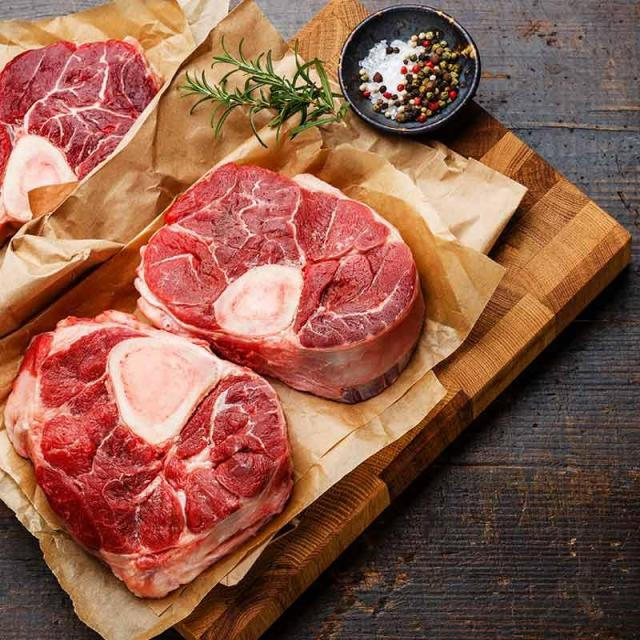beef: (157, 165, 453, 397)
